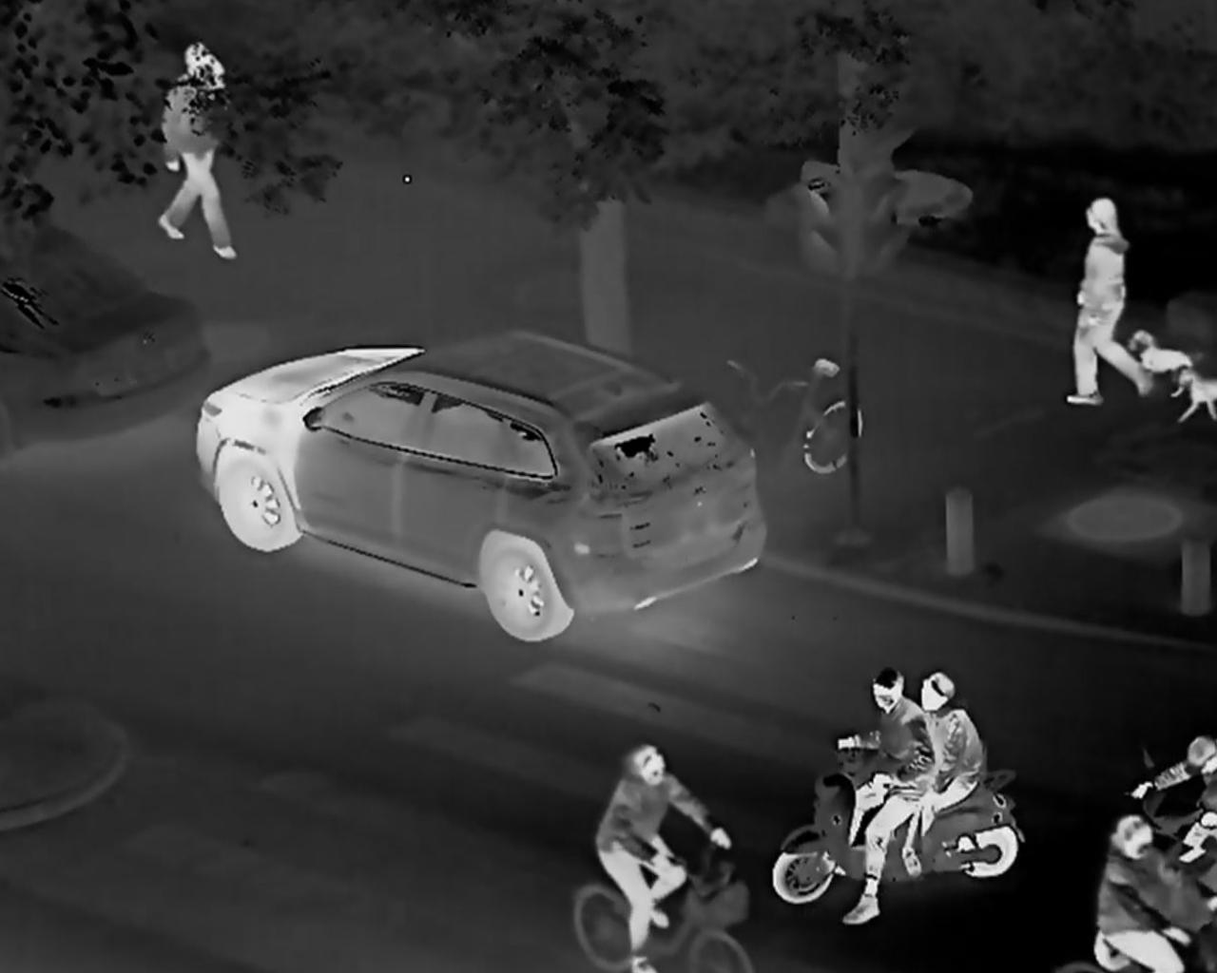person: (590, 741, 721, 973), (845, 658, 932, 929), (147, 36, 241, 264), (1074, 195, 1151, 408), (905, 672, 983, 880), (1101, 815, 1195, 973), (1130, 734, 1217, 866)
